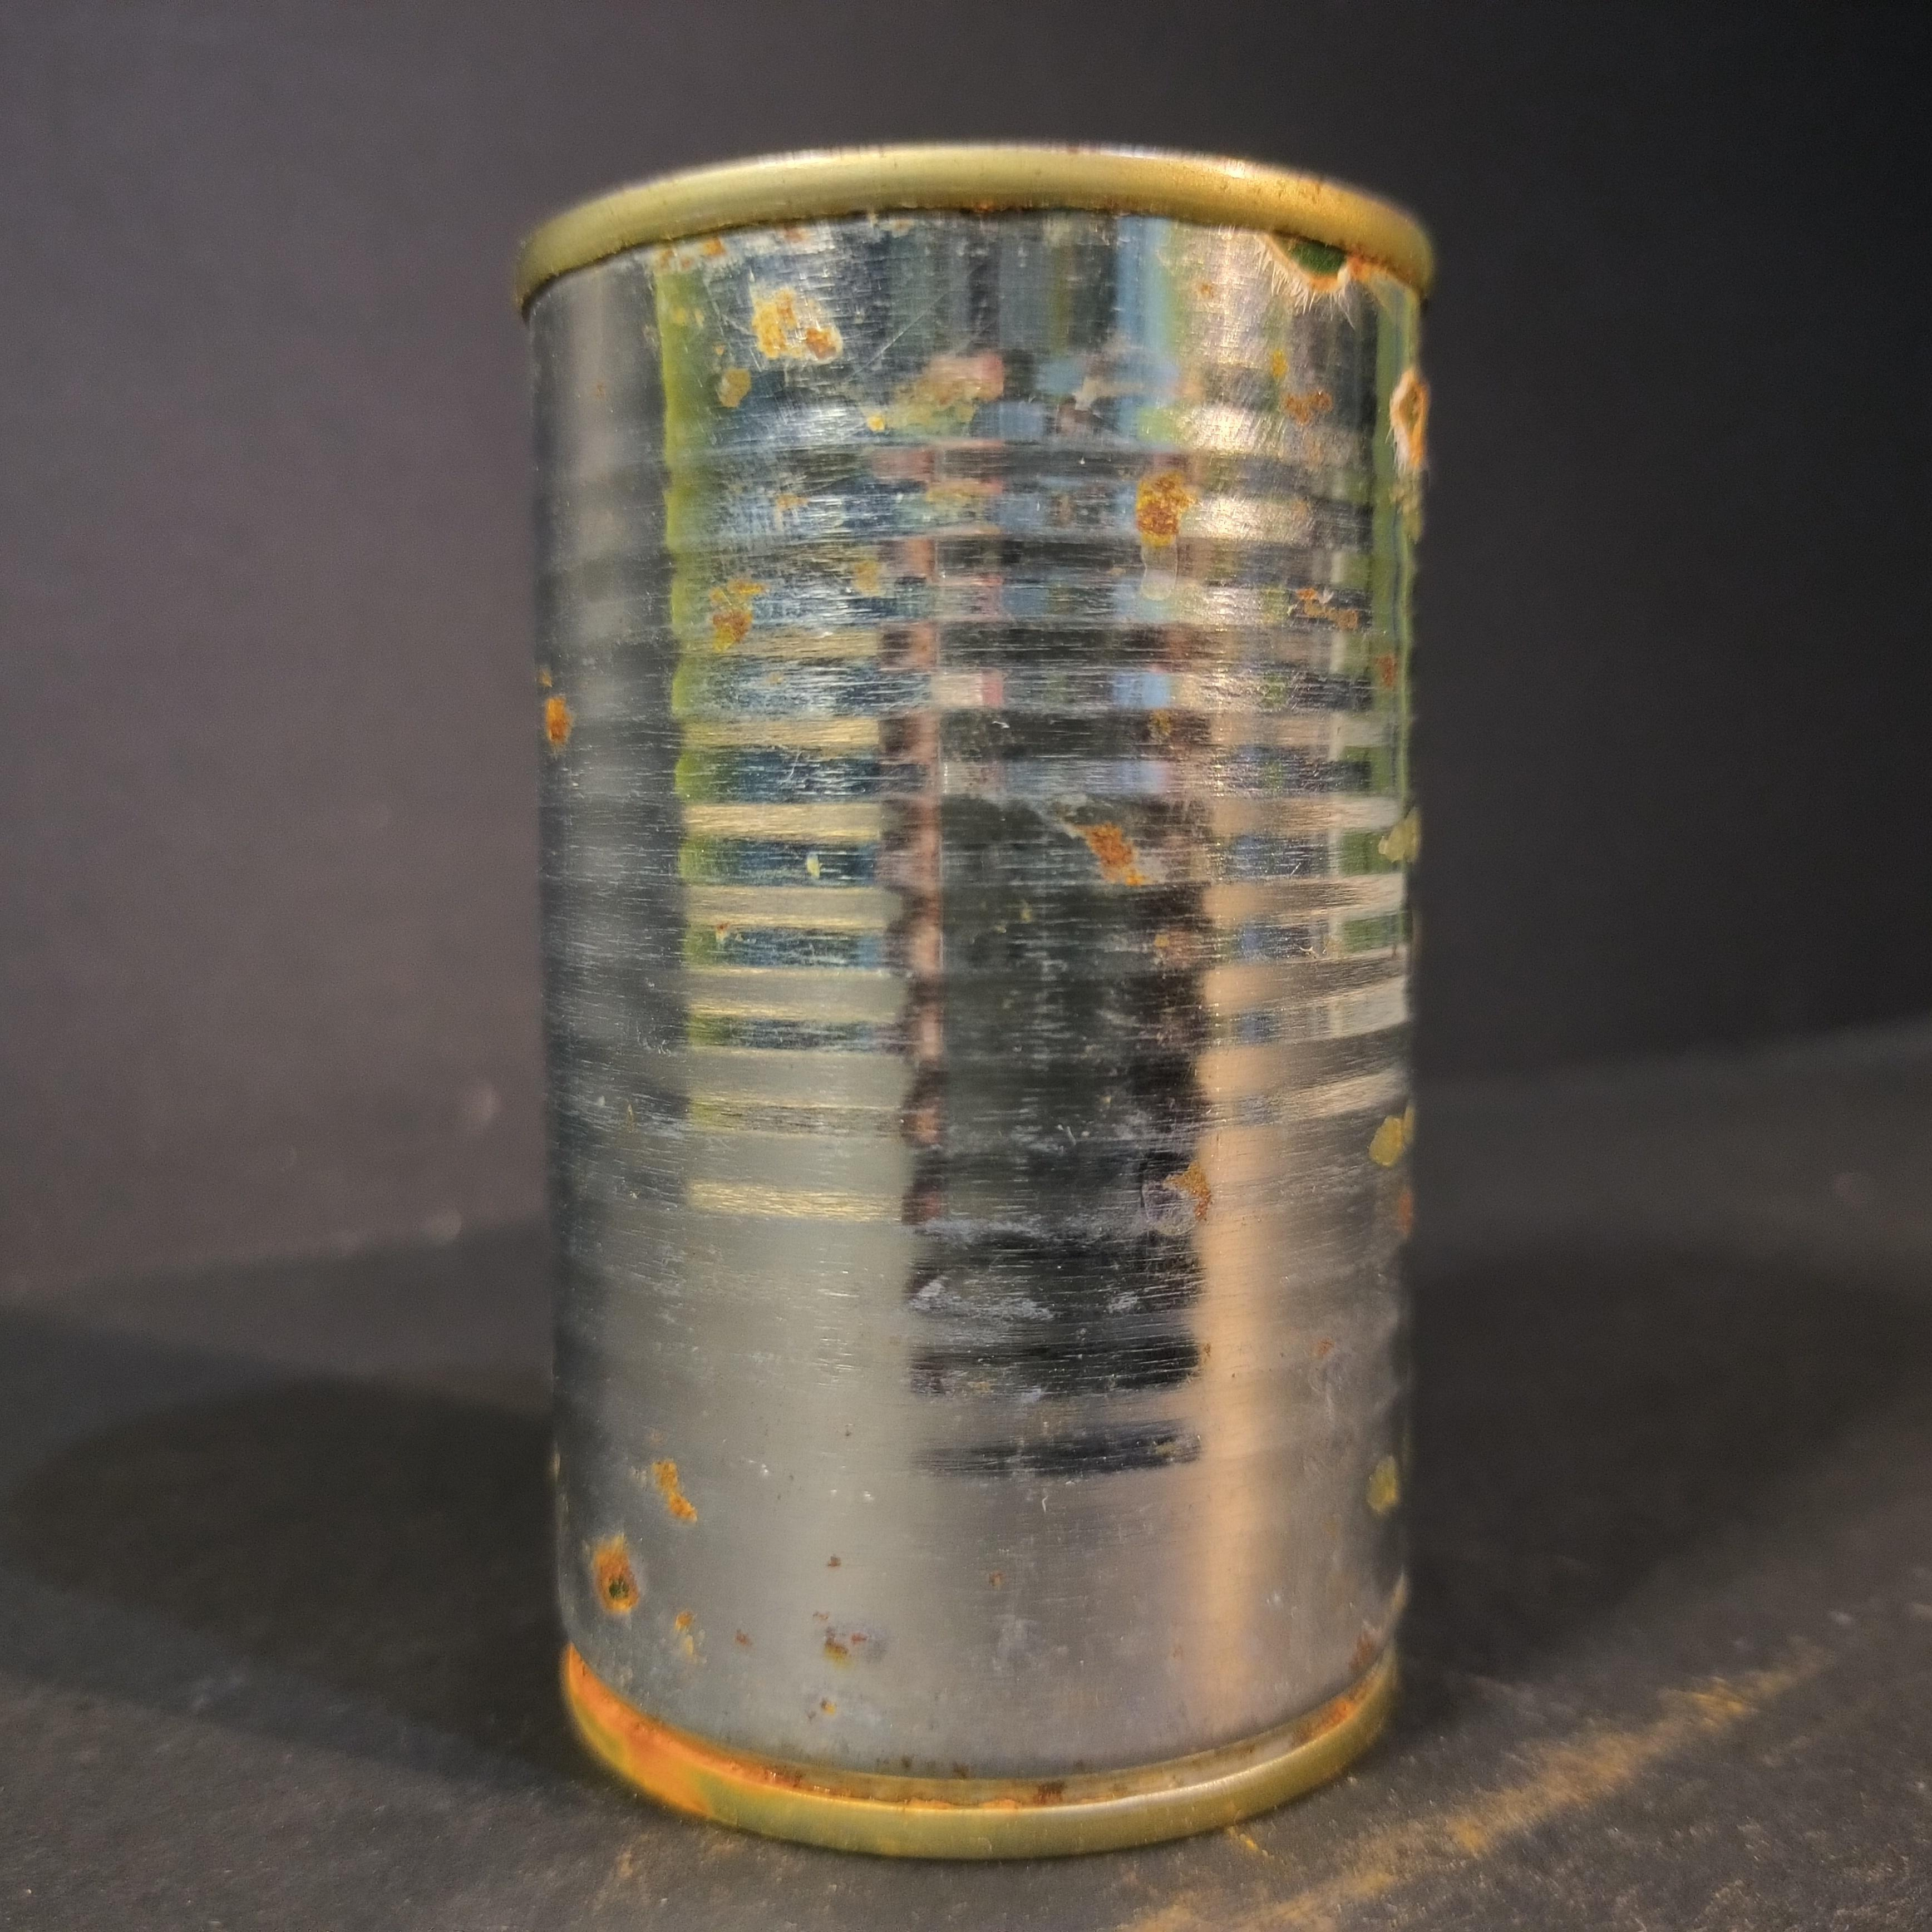Rusted: (467, 92, 1474, 1909)
